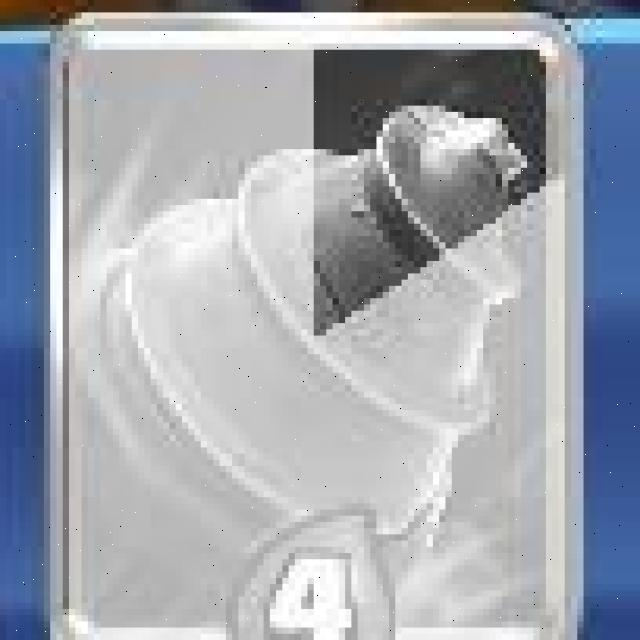Goblin_Drill: (45, 12, 579, 640)
